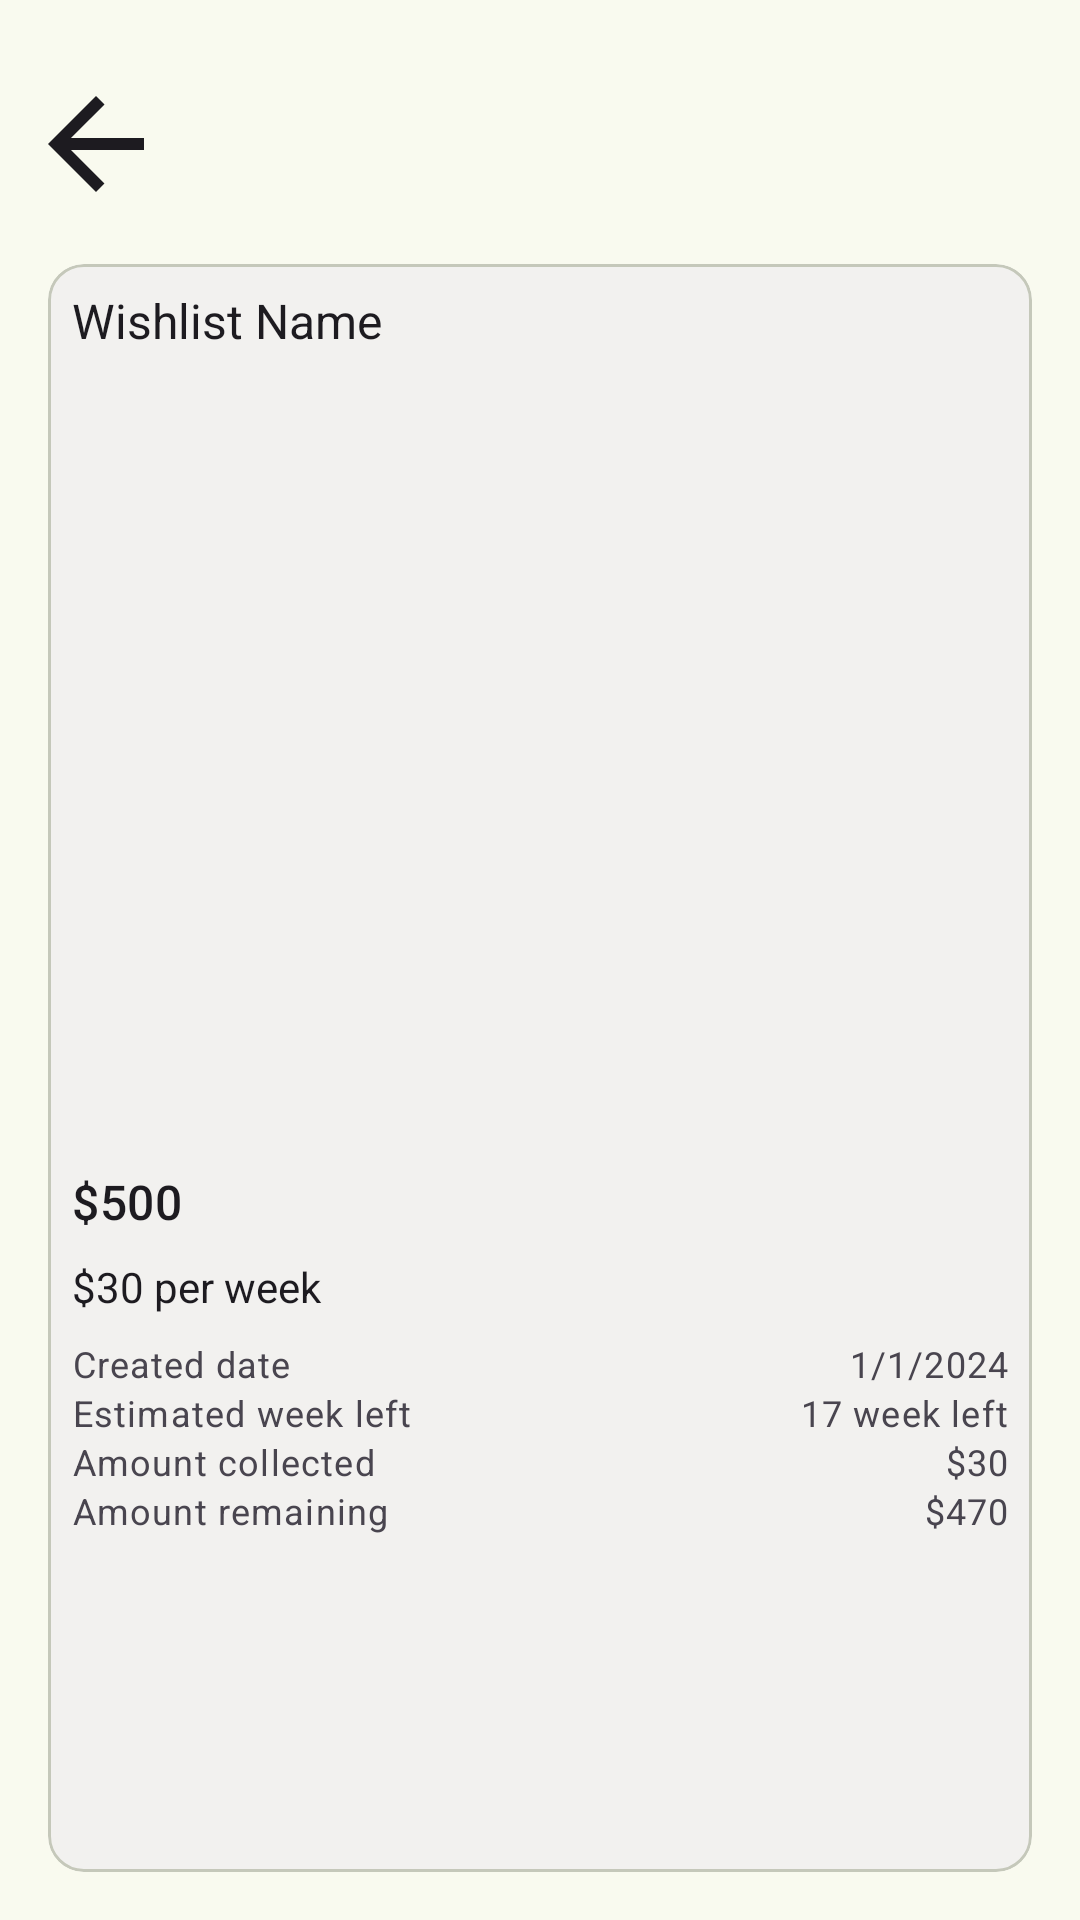

Screen size 1080px x 1920px. Icon name, then its box in pixels as (x1=x1, y1=y1, x2=x2, y2=y2):
arrow back: (x1=48, y1=96, x2=144, y2=192)
